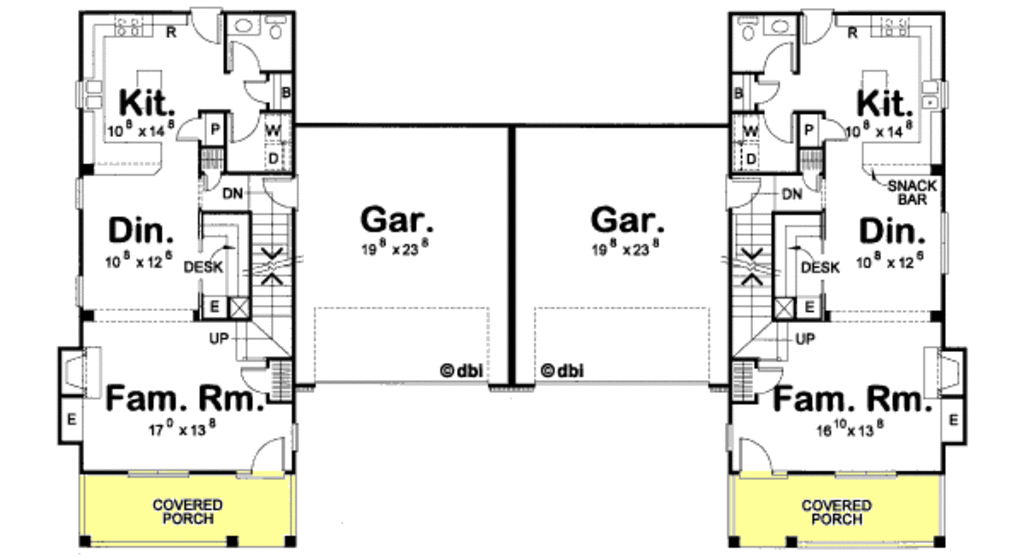door: (731, 428, 787, 486), (245, 432, 290, 484), (225, 40, 266, 87), (259, 176, 307, 213), (748, 357, 786, 401), (755, 41, 800, 76), (218, 105, 261, 141), (724, 177, 768, 211), (239, 359, 276, 399), (801, 7, 836, 49), (188, 2, 218, 51), (164, 113, 209, 144), (759, 106, 795, 143), (819, 113, 858, 144), (239, 70, 268, 109), (753, 77, 782, 106), (799, 167, 826, 192)
large_sink: (260, 10, 289, 44), (734, 11, 759, 46)
small_sink: (228, 11, 266, 37), (762, 14, 796, 38)
stairs: (227, 175, 307, 358), (723, 171, 797, 359)
twin_sink: (920, 73, 952, 115), (82, 78, 115, 118)
window: (832, 461, 903, 484), (121, 465, 191, 481), (70, 174, 95, 217), (66, 268, 93, 307), (937, 207, 951, 280)
